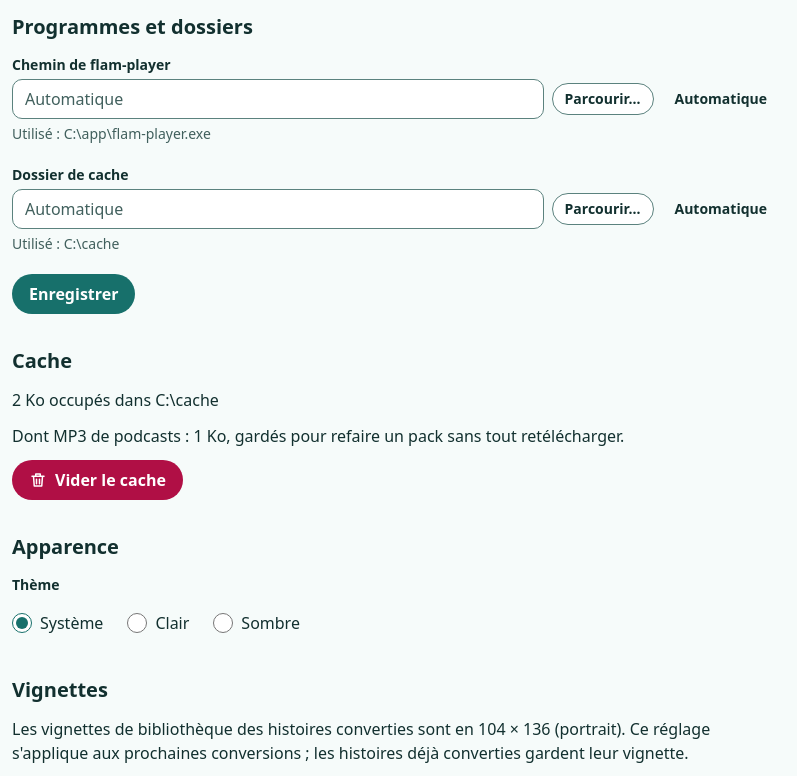
Scenario: rétablit le thème précédent si l'enregistrement échoue
Expected: the field labelled "Chemin de flam-player" is shown, x1=12 y1=79 x2=544 y2=119
Click the radio button labelled "Clair" at (137, 623), box x1=127 y1=613 x2=147 y2=633
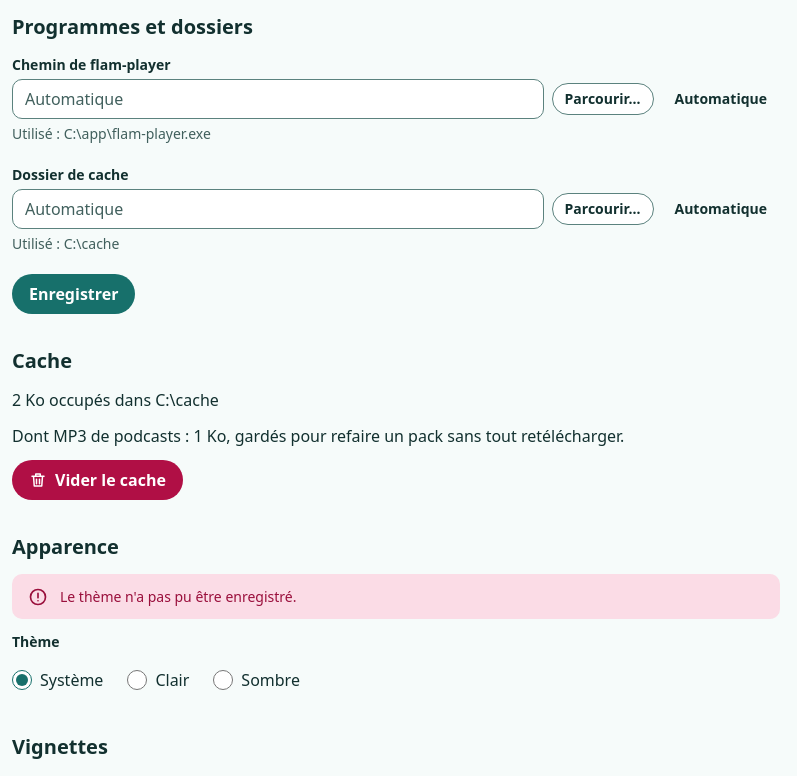
Expected: the radio button labelled "Système" is checked, x1=12 y1=670 x2=32 y2=690
Expected: the message reads "Le thème n'a pas pu être enregistré.", x1=60 y1=587 x2=296 y2=606
